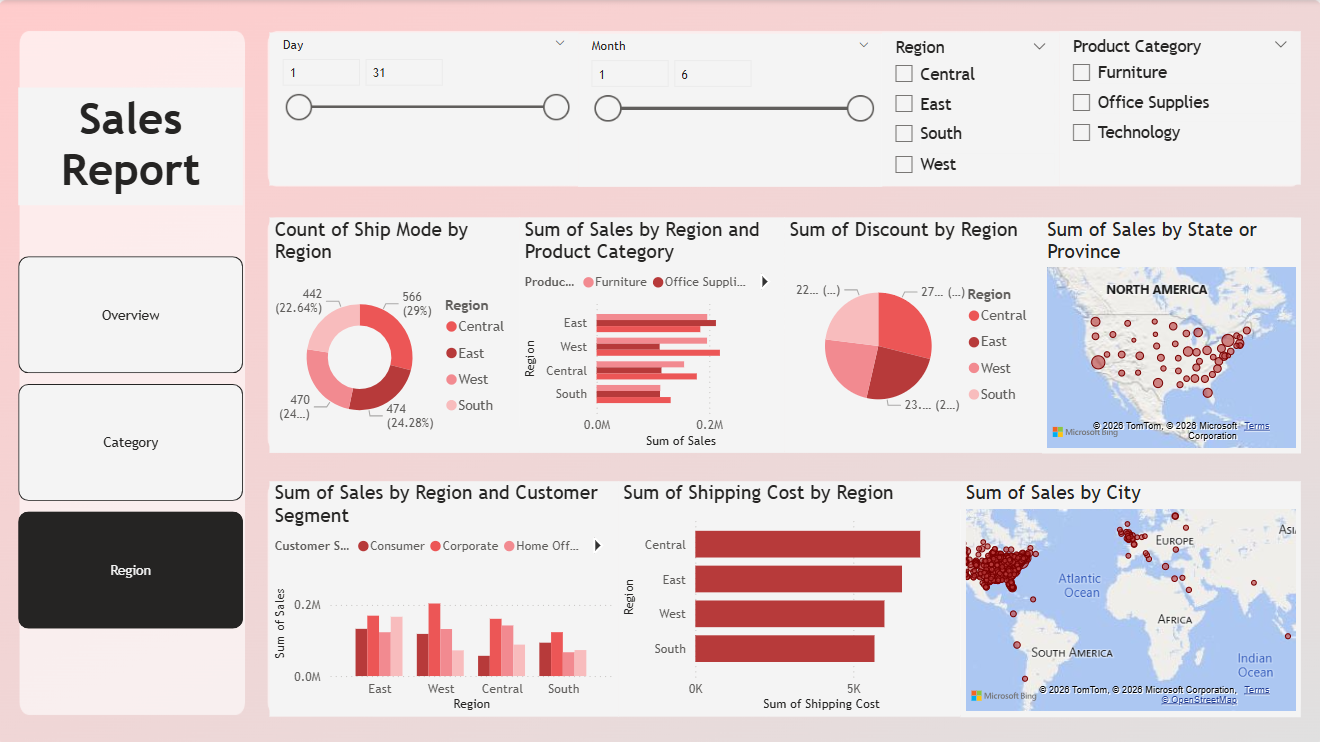

What the dashboard file says about the page in this screenshot:
{"tool":"powerbi","page":{"name":"Region","canvas":[1280,720],"ordinal":2},"visuals":[{"type":"slicer","fields":{"Values":["Sales Project.Product Category"]},"box":[1025.5,30.2,232.8,148.4],"z":0},{"type":"slicer","fields":{"Values":["Sales Project.Region"]},"box":[854.2,31.4,171.3,148.4],"z":1000},{"type":"slicer","fields":{"Values":["Sales Project.Month"]},"box":[561,32.6,293.2,147.2],"z":2000},{"type":"slicer","fields":{"Values":["Sales Project.Day"]},"box":[263,31.4,298,147.2],"z":3000},{"type":"map","fields":{"Category":["Sales Project.State or Province"],"Size":["Sum(Sales Project.Sales)"]},"box":[1008.6,209.9,249.7,226.8],"z":4000},{"type":"clusteredBarChart","fields":{"Category":["Sales Project.Region"],"Y":["Sum(Sales Project.Sales)"],"Series":["Sales Project.Product Category"]},"box":[504.3,209.9,255.8,226.8],"z":5000},{"type":"map","fields":{"Category":["Sales Project.City"],"Size":["Sum(Sales Project.Sales)"]},"box":[263,464.5,328.2,226.8],"z":6000},{"type":"clusteredColumnChart","fields":{"Category":["Sales Project.Region"],"Series":["Sales Project.Customer Segment"],"Y":["Sum(Sales Project.Sales)"]},"box":[591.2,464.5,336.6,226.8],"z":7000},{"type":"pieChart","fields":{"Category":["Sales Project.Region"],"Y":["Sum(Sales Project.Discount)"]},"box":[760.1,209.9,248.5,226.8],"z":8000},{"type":"donutChart","title":"Count of Ship Mode by Region","fields":{"Y":["CountNonNull(Sales Project.Ship Mode)"],"Category":["Sales Project.Region"]},"box":[263,209.9,241.3,226.8],"z":9000},{"type":"barChart","fields":{"Category":["Sales Project.Region"],"Y":["Sum(Sales Project.Shipping Cost)"]},"box":[927.8,464.5,330.6,226.8],"z":10000},{"type":"pageNavigator","box":[20.5,247.3,217.2,361.9],"z":10001},{"type":"textbox","box":[20.5,84.5,217.2,113.4],"z":10002}]}

Visuals, with their boxes in screenshot pixels (x1, y1, x2, y2), scaled from the page's 1280x720 canvas onto the 1320x742 screenshot:
slicer - Sales Project.Product Category: (1058, 31, 1298, 184)
slicer - Sales Project.Region: (881, 32, 1058, 185)
slicer - Sales Project.Month: (579, 34, 881, 185)
slicer - Sales Project.Day: (271, 32, 579, 184)
map - Sales Project.State or Province x Sum(Sales Project.Sales): (1040, 216, 1298, 450)
clusteredBarChart - Sales Project.Region x Sum(Sales Project.Sales): (520, 216, 784, 450)
map - Sales Project.City x Sum(Sales Project.Sales): (271, 479, 610, 712)
clusteredColumnChart - Sales Project.Region x Sales Project.Customer Segment: (610, 479, 957, 712)
pieChart - Sales Project.Region x Sum(Sales Project.Discount): (784, 216, 1040, 450)
"Count of Ship Mode by Region" donutChart: (271, 216, 520, 450)
barChart - Sales Project.Region x Sum(Sales Project.Shipping Cost): (957, 479, 1298, 712)
pageNavigator: (21, 255, 245, 628)
textbox: (21, 87, 245, 204)
